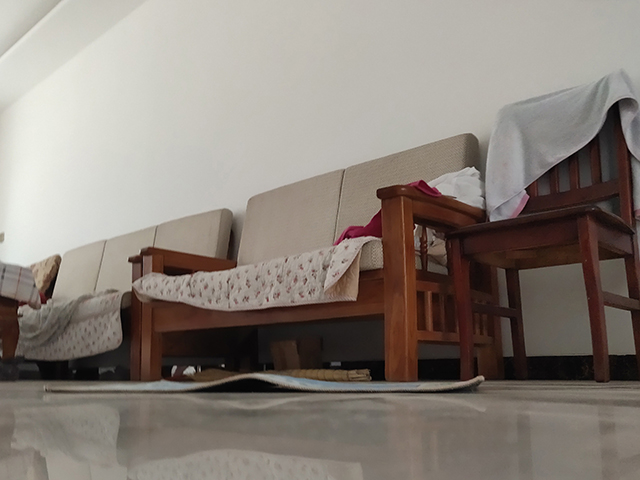carpet: (43, 370, 486, 394)
sofa: (144, 132, 481, 380), (10, 206, 230, 383)
stool: (444, 66, 640, 385)
